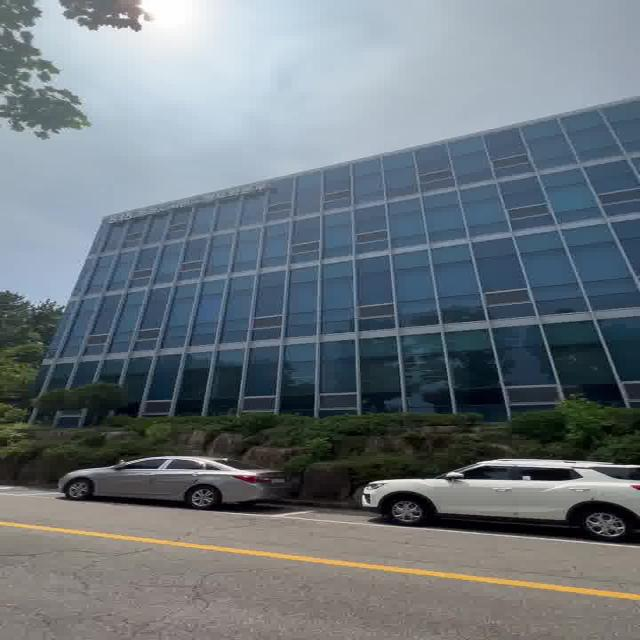building: (66, 98, 640, 409)
